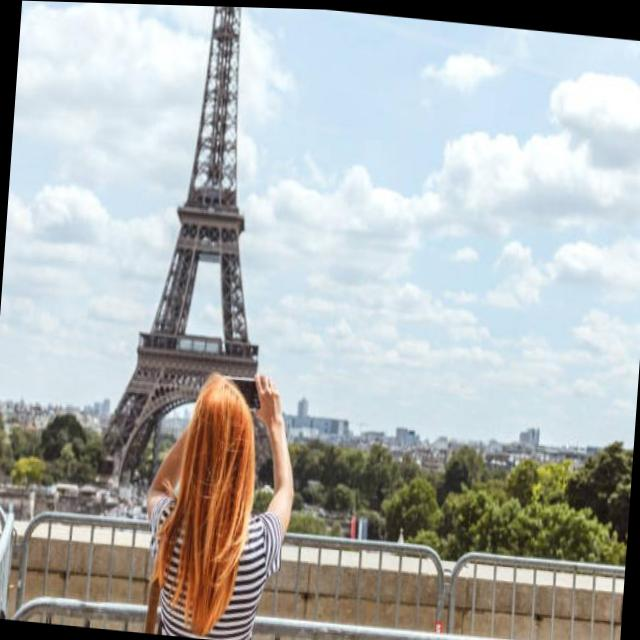no helmet: (169, 362, 279, 551)
